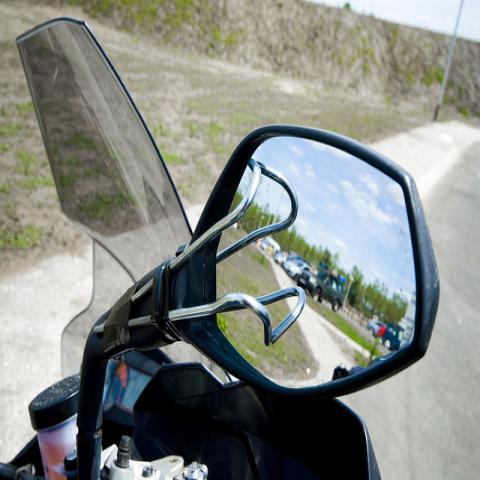car: (300, 271, 346, 313), (354, 344, 412, 374), (282, 256, 314, 282), (380, 321, 406, 351), (259, 235, 282, 259), (274, 251, 300, 262), (367, 320, 383, 336)
motorcycle: (0, 17, 441, 479)
